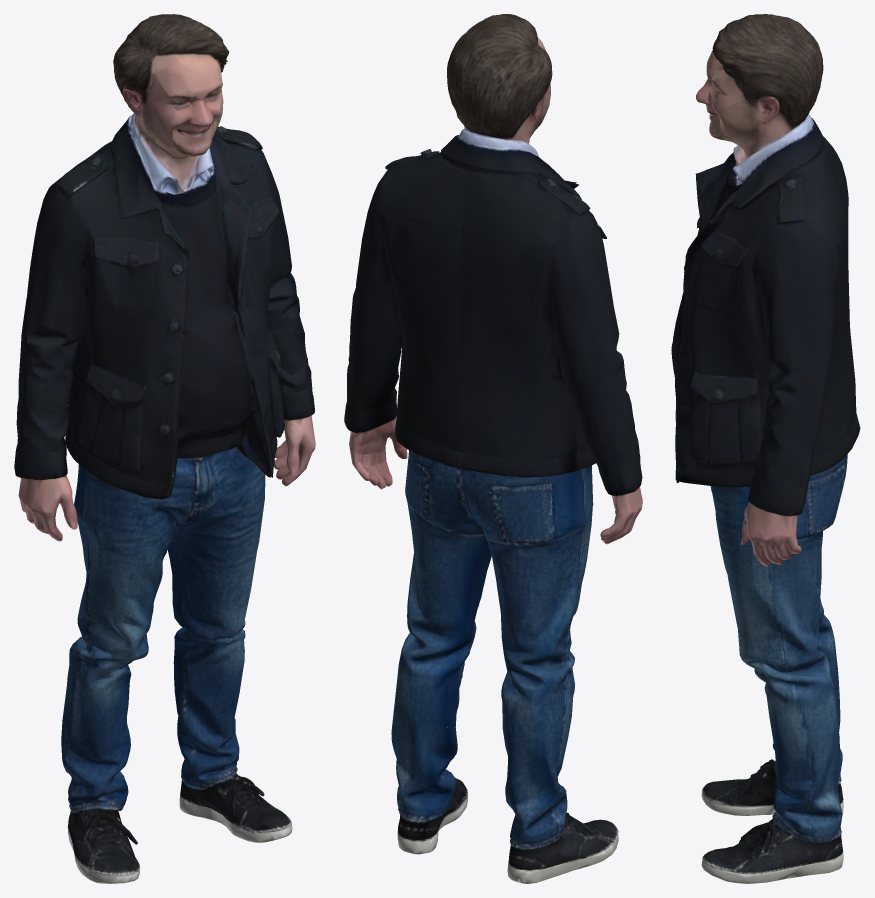
Rendered from dan.glb.
3 renders of one model, left to right at view 1: azimuth 30°, elevation 25°; view 2: azimuth 150°, elevation 25°; view 3: azimuth 270°, elevation 25°, orthographic.
Visible parts, largest first — view 1: model; view 2: model; view 3: model.
Boxes of the visible parts, <box> form: model: <box>14,14,315,883</box>; model: <box>344,14,642,883</box>; model: <box>671,14,860,883</box>.
Size of the model in its own units: 0.3629 by 0.9796 by 0.2037.
Materials: 1 (1 with a texture image).
